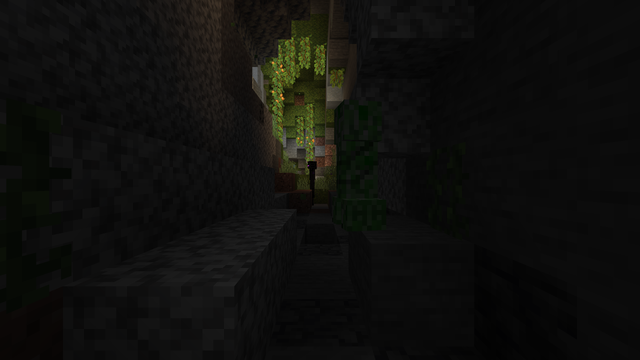creepers: (333, 93, 383, 229)
endermens: (307, 159, 316, 205)
